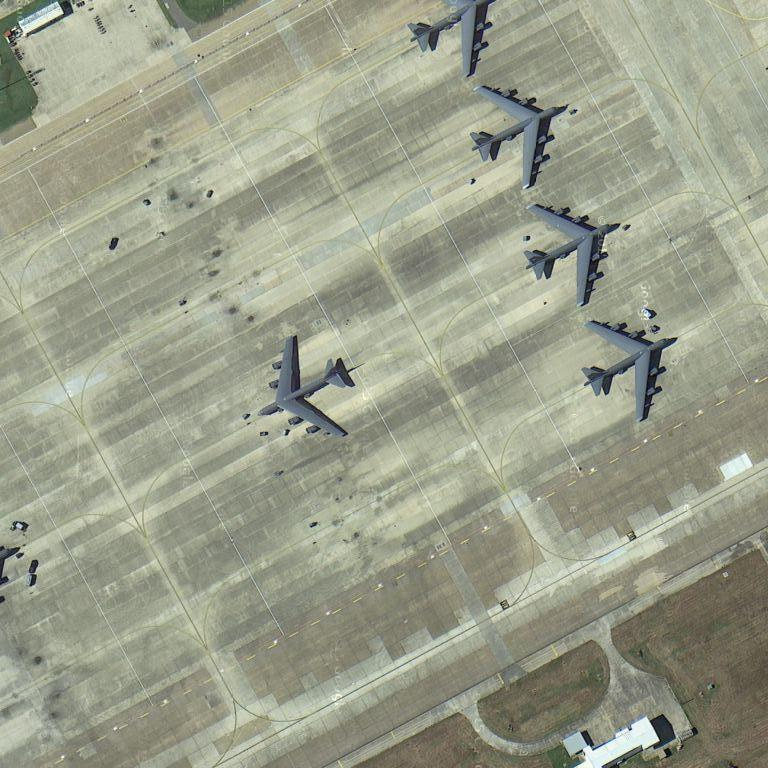B-52: (255, 331, 361, 445), (576, 313, 677, 425), (517, 199, 618, 308), (468, 74, 561, 191), (403, 2, 503, 80)
